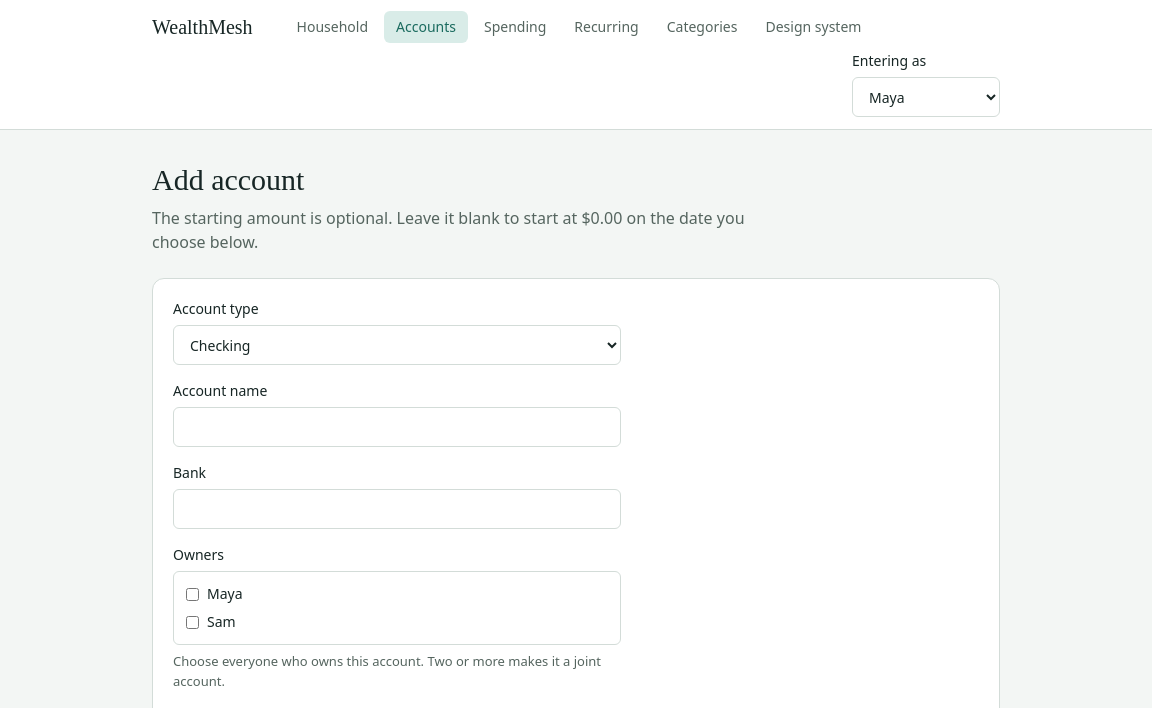
Test: adding a defined benefit › V2_DB_005 a negative plan value is explained in the plan’s words and nothing is created
The width and height of the screenshot is (1152, 708).
Select "Defined benefit" in the dropdown labelled "Account type" at x=397, y=345, box [173, 325, 621, 365]
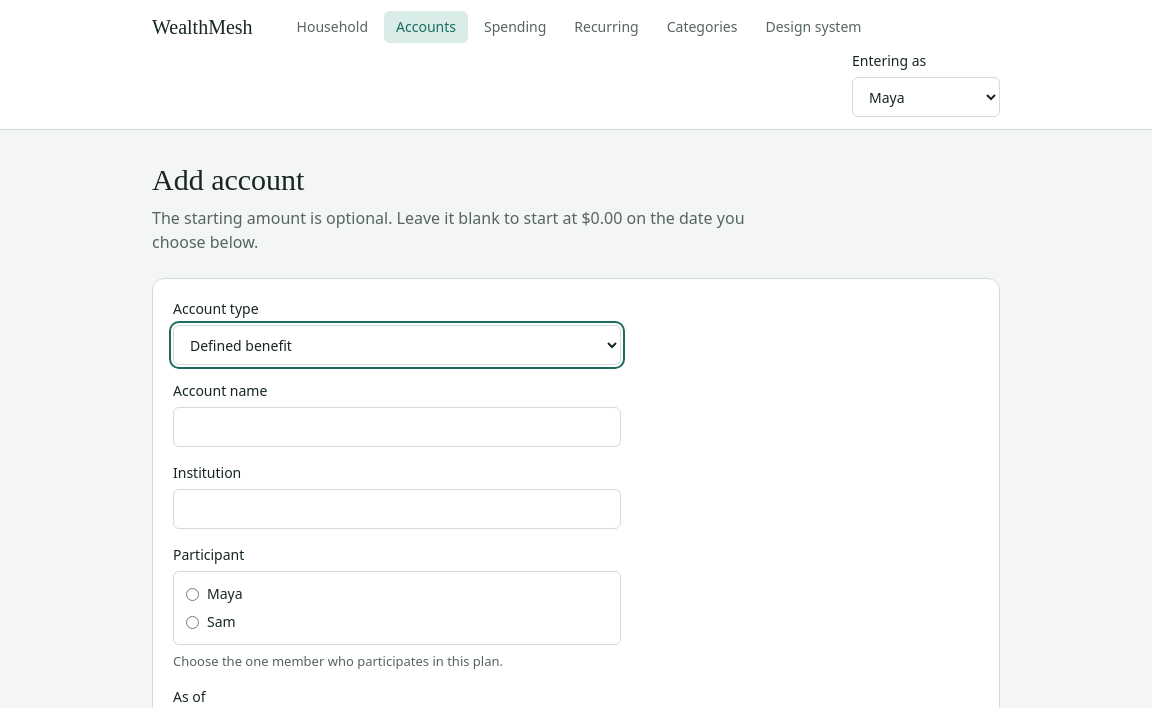
Type "Harbor Cash Balance" into the field labelled "Account name" at x=397, y=427, box [173, 407, 621, 447]
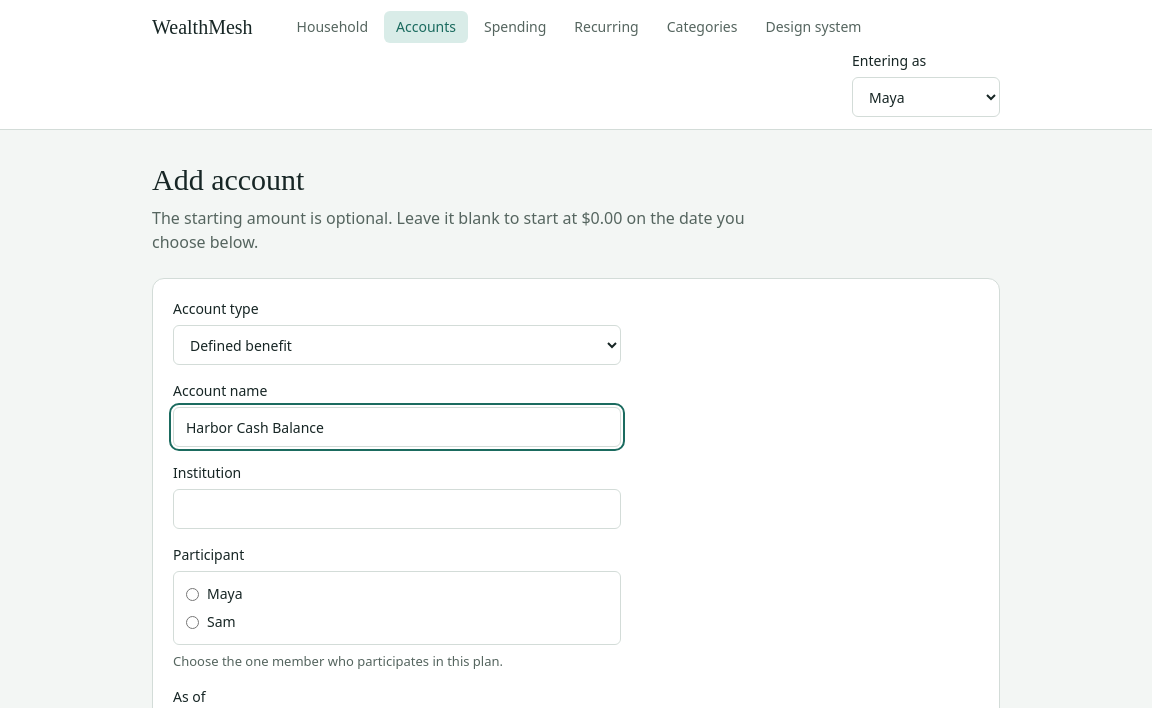
Type "Harbor Benefits" into the field labelled "Institution" at x=397, y=509, box [173, 489, 621, 529]
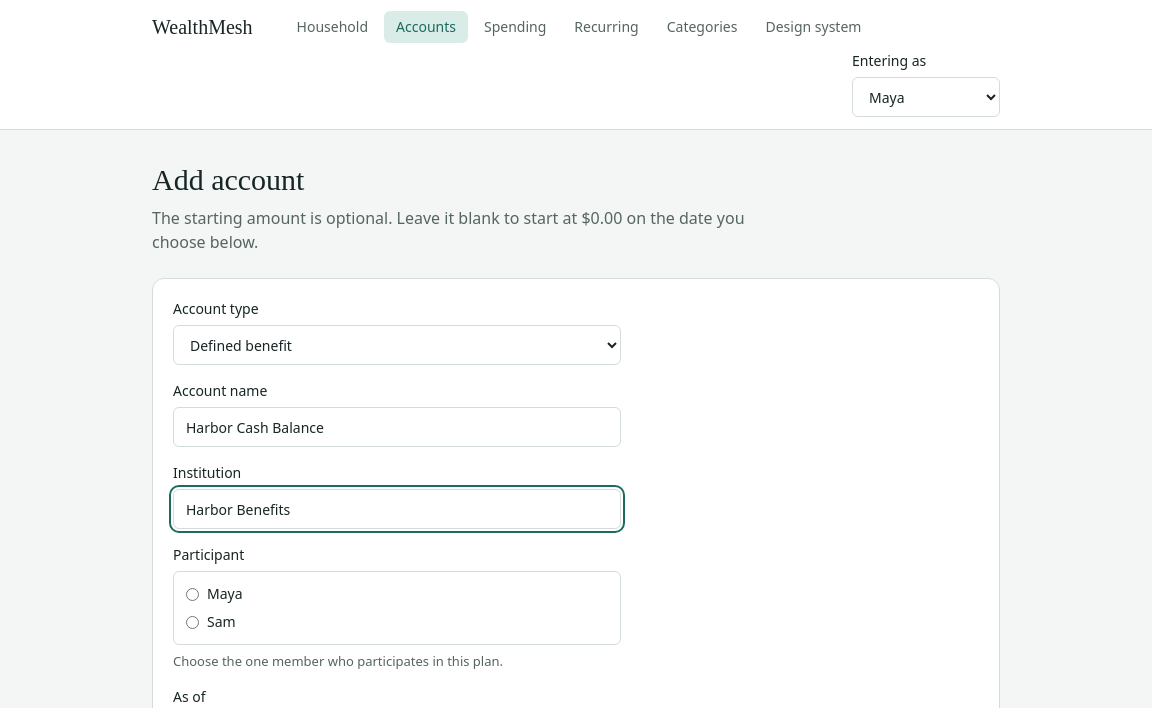
Click the radio button labelled "Sam" at x=192, y=622, box [186, 616, 199, 628]
(page scrolled)
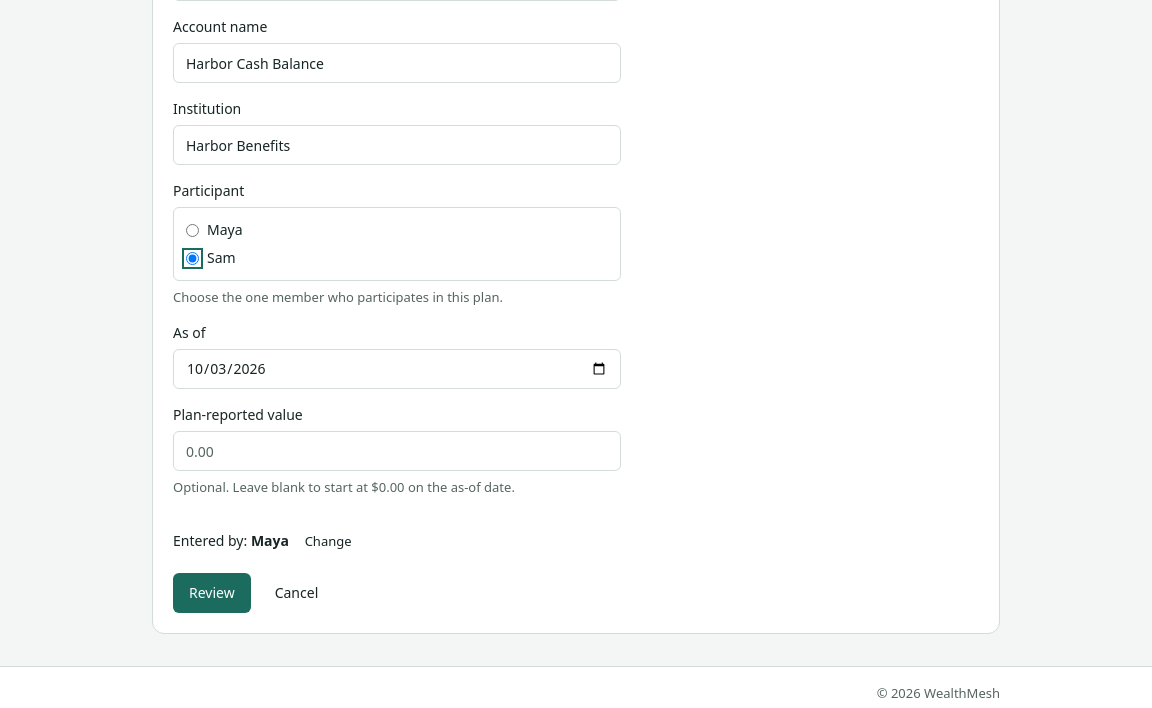
Type "2026-09-01" into the date field labelled "As of" at x=397, y=369, box [173, 349, 621, 389]
Type "-100.00" into the field labelled "Plan-reported value" at x=397, y=451, box [173, 431, 621, 471]
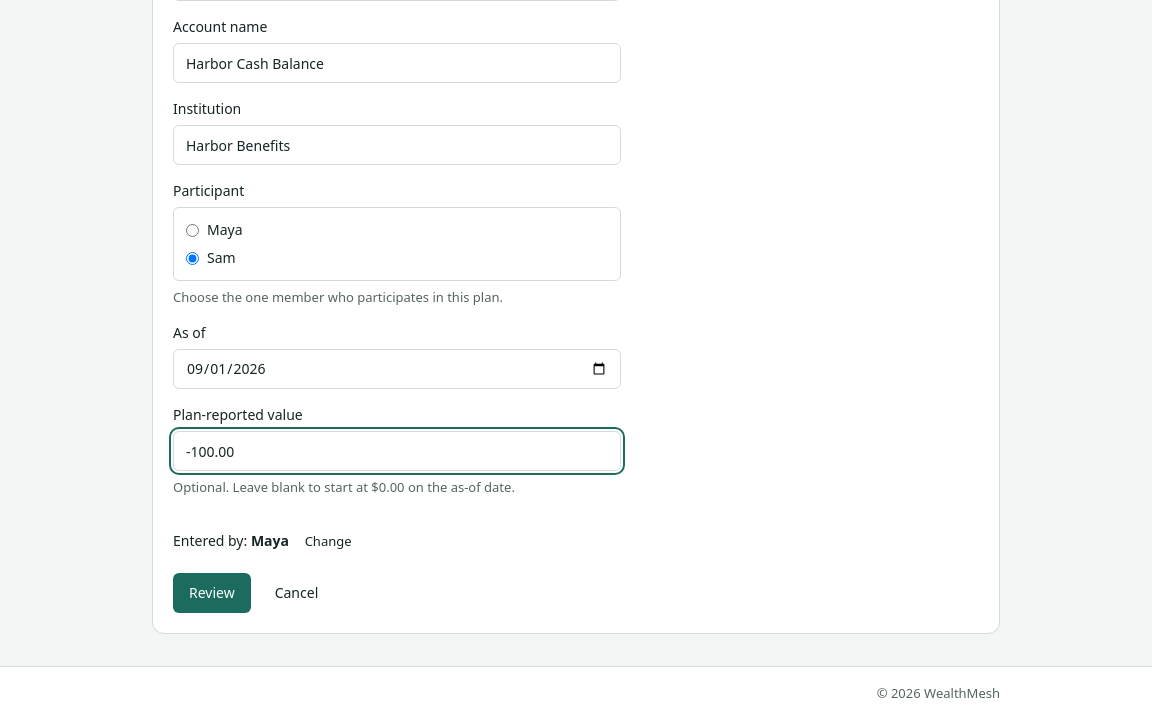
Click the button "Review" at x=212, y=593, box [173, 573, 251, 613]
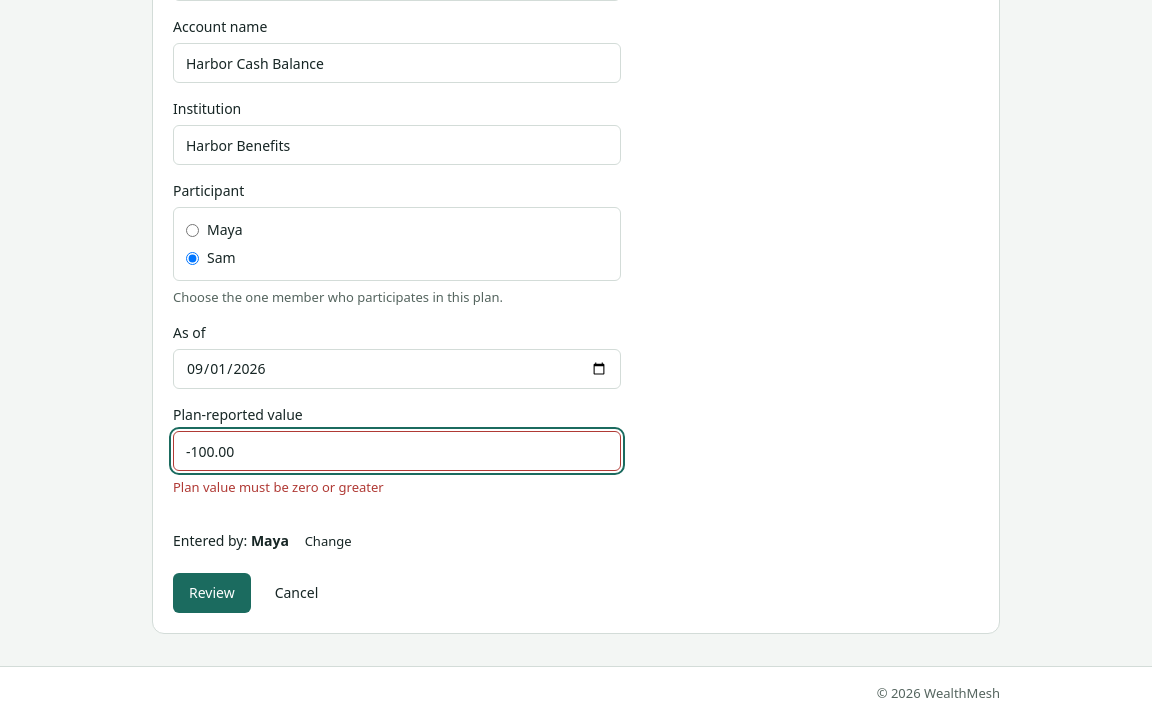
Expected: the text "Plan value must be zero or greater" is shown, [173, 478, 384, 496]
